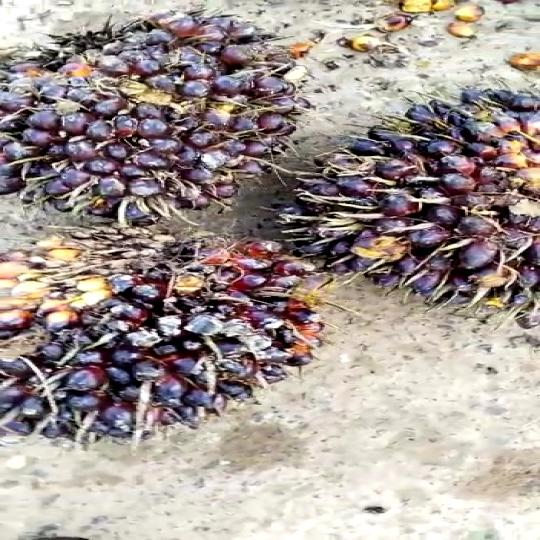kurang masak: (0, 226, 334, 452), (0, 8, 301, 223), (283, 81, 540, 331)
